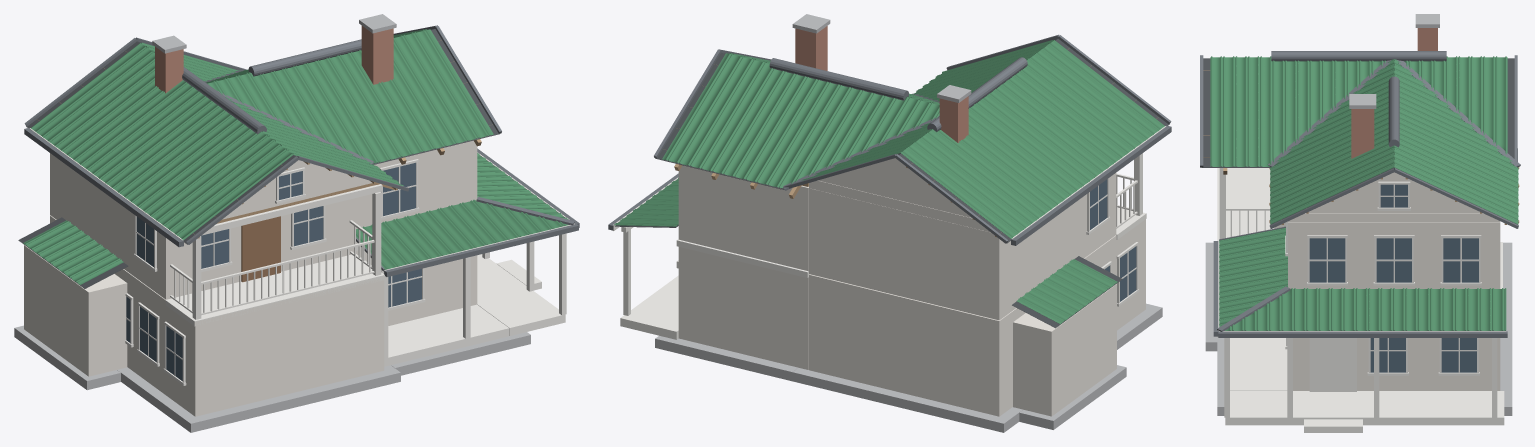
Rendered from Mega_Twin_Rib_LShape_Balcony_House.glb.
The picture shows the model from 3 angles, left to right: view 1: azimuth 30°, elevation 25°; view 2: azimuth 150°, elevation 25°; view 3: azimuth 270°, elevation 25°; orthographic projection. The views are drawn at different scales.
Parts seen in each view (by area): view 1: WingA_Walls_GF, WingA_Walls_2F, SideBay_Walls, WingB_Walls, Balcony_Floor, Foundation_WingA, Porch_Deck_FrontB, RoofSheet_23, RoofSheet_20, Porch_Deck_RightB, RoofSheet_21, RoofSheet_22 (+56 smaller); view 2: WingA_Walls_2F, WingA_Walls_GF, WingB_Walls, SideBay_Walls, Foundation_WingA, RoofSheet_24, RoofSheet_25, RoofSheet_26, RoofSheet_27, RoofSheet_01, Gable_Wall_WingA_Back, RoofSheet_08 (+36 smaller); view 3: WingB_Walls, Porch_Deck_RightB, RoofSheet_09, RoofSheet_10, RoofSheet_16, Porch_Deck_FrontB, Balcony_Floor, Gable_Wall_WingB_Right, RoofSheet_11, Door_Frame, RoofSheet_24, RoofSheet_23 (+59 smaller).
Part boxes in pixels (x1,y1,x2,y2): WingA_Walls_GF: [50, 215, 384, 416]; WingA_Walls_2F: [50, 153, 354, 299]; SideBay_Walls: [24, 245, 127, 376]; WingB_Walls: [355, 140, 477, 325]; Balcony_Floor: [165, 254, 384, 326]; Foundation_WingA: [117, 365, 400, 432]; Porch_Deck_FrontB: [384, 304, 509, 366]; RoofSheet_23: [397, 29, 493, 142]; RoofSheet_20: [300, 57, 394, 163]; Porch_Deck_RightB: [477, 254, 565, 335]; RoofSheet_21: [333, 50, 427, 158]; RoofSheet_22: [386, 37, 460, 150]; WingA_Walls_2F: [809, 173, 1116, 320]; WingA_Walls_GF: [809, 219, 1145, 416]; WingB_Walls: [678, 165, 808, 369]; SideBay_Walls: [1013, 284, 1116, 416]; Foundation_WingA: [792, 303, 1162, 432]; RoofSheet_24: [662, 53, 758, 167]; RoofSheet_25: [695, 61, 790, 175]; RoofSheet_26: [728, 73, 823, 183]; RoofSheet_27: [762, 81, 856, 188]; RoofSheet_01: [901, 138, 1030, 238]; Gable_Wall_WingA_Back: [818, 158, 971, 217]; RoofSheet_08: [1035, 40, 1164, 139]; WingB_Walls: [1288, 222, 1500, 390]; Porch_Deck_RightB: [1225, 391, 1504, 425]; RoofSheet_09: [1210, 56, 1247, 166]; RoofSheet_10: [1247, 56, 1284, 166]; RoofSheet_16: [1470, 56, 1507, 154]; Porch_Deck_FrontB: [1230, 338, 1287, 390]; Balcony_Floor: [1217, 168, 1273, 240]; Gable_Wall_WingB_Right: [1308, 172, 1479, 213]; RoofSheet_11: [1284, 60, 1321, 151]; Door_Frame: [1309, 338, 1356, 391]; RoofSheet_24: [1394, 152, 1518, 224]; RoofSheet_23: [1270, 152, 1394, 224].
Bounding box in the file's own units: 12.46 × 7.83 × 8.16.
